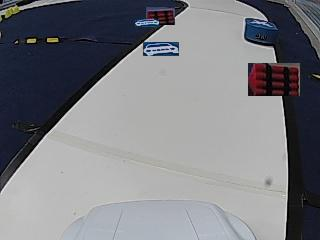prop: (244, 17, 278, 46)
